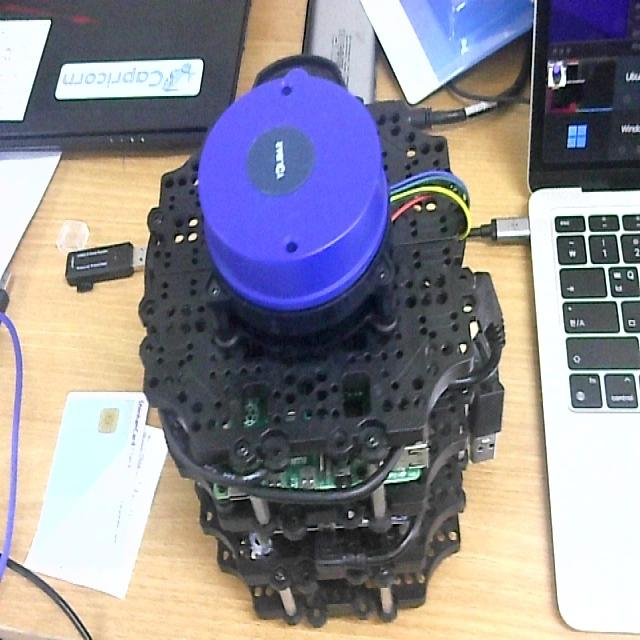turtle: (136, 52, 507, 630)
